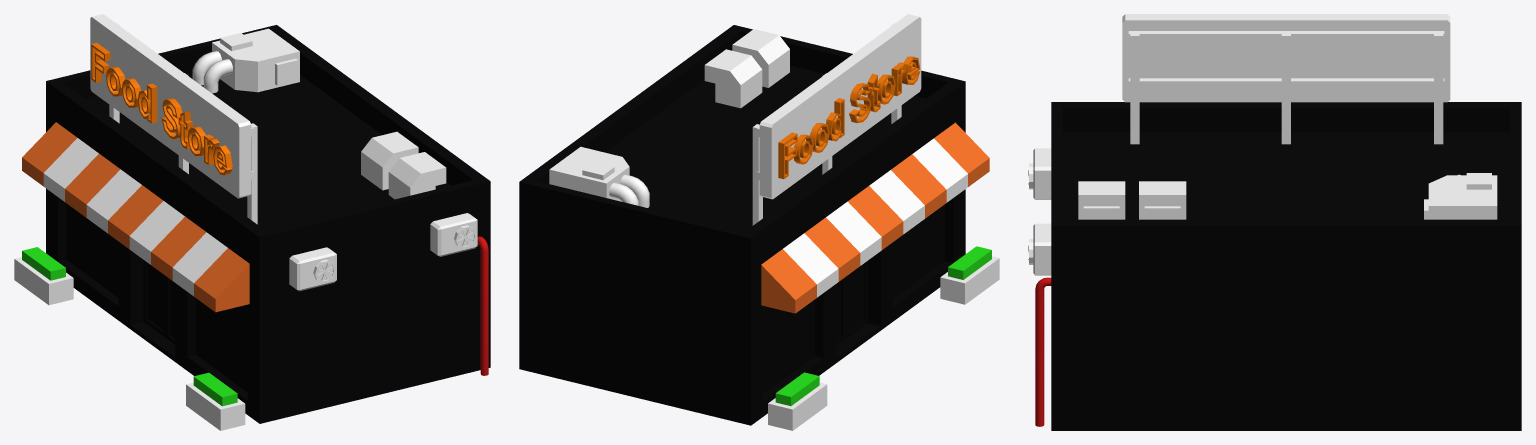
Rendered from FoodStore_01.FBX.
The picture shows the model from 3 angles, left to right: view 1: azimuth 30°, elevation 25°; view 2: azimuth 150°, elevation 25°; view 3: azimuth 270°, elevation 25°; orthographic projection. The views are drawn at different scales.
Visible parts, largest first — view 1: FoodStore_01; view 2: FoodStore_01; view 3: FoodStore_01.
Boxes of the visible parts, x1,y1,x2,y2 form: FoodStore_01: [14, 14, 490, 430]; FoodStore_01: [519, 14, 999, 430]; FoodStore_01: [1028, 14, 1521, 430].
Size of the model in its own units: 13.69 by 13.32 by 19.88.
